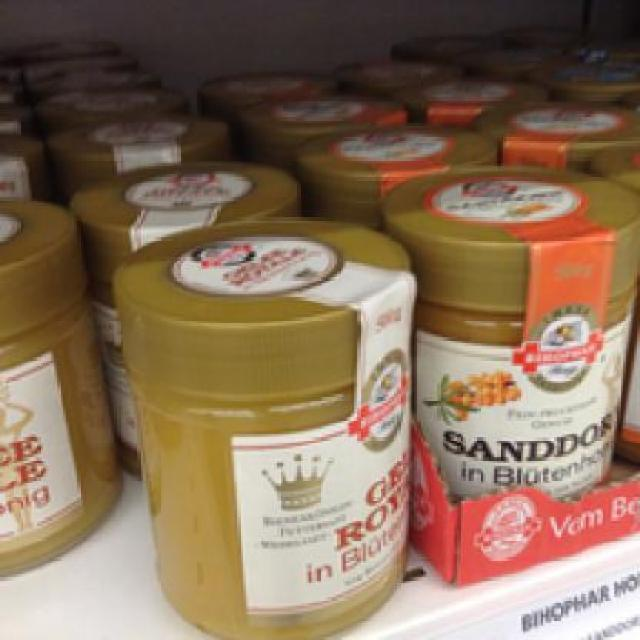Honey: (88, 220, 426, 637), (377, 160, 637, 517)
